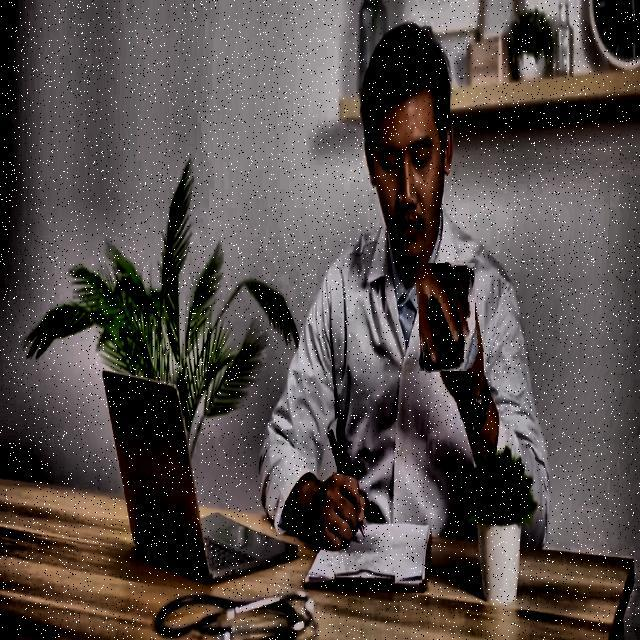Phone: (417, 262, 478, 372)
